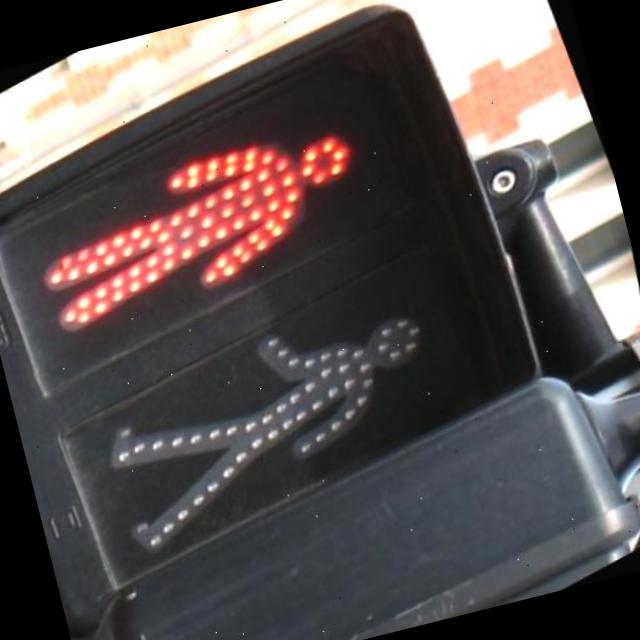red_light: (0, 52, 426, 370)
